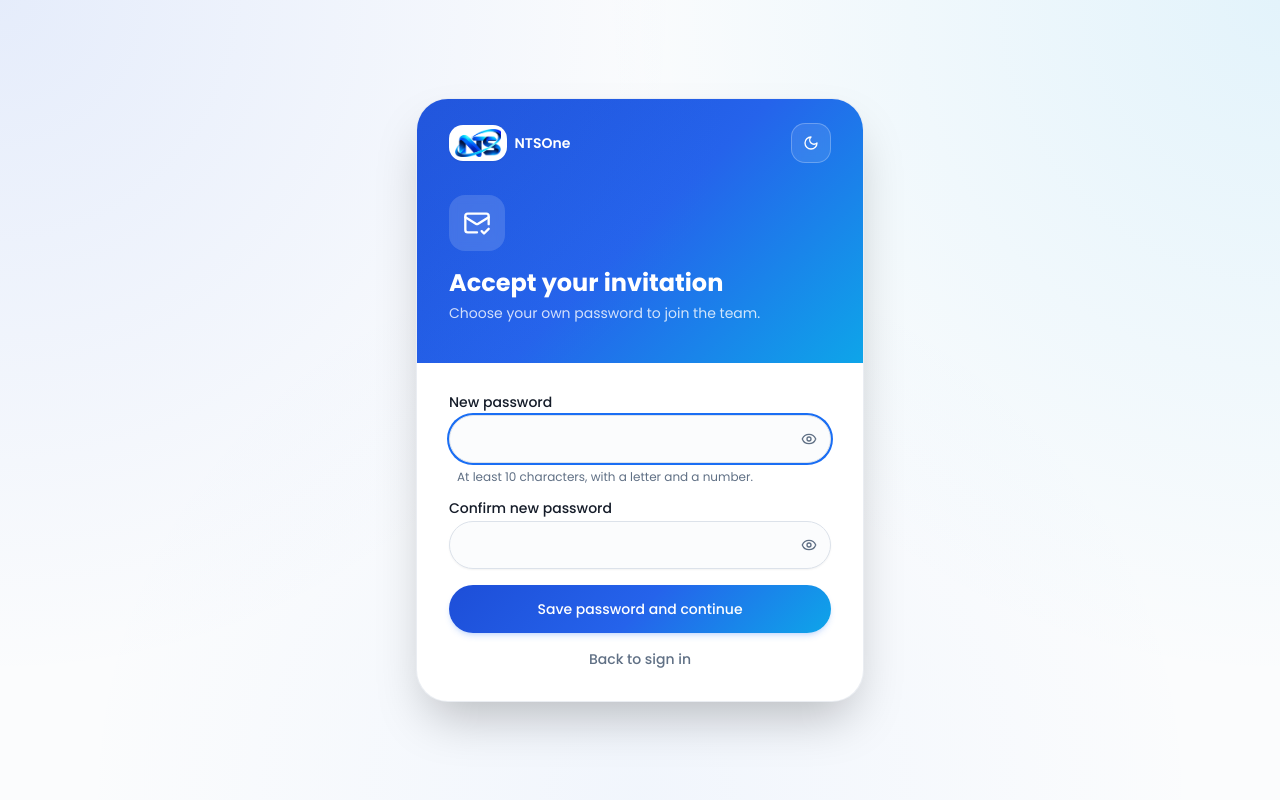
Test case: the accept invitation page › shows the server's reason when the invitation cannot be accepted
The image size is (1280, 800).
Type "MyOwnSecret2026" into the password field labelled "New password" at (640, 439), box [449,415,831,463]
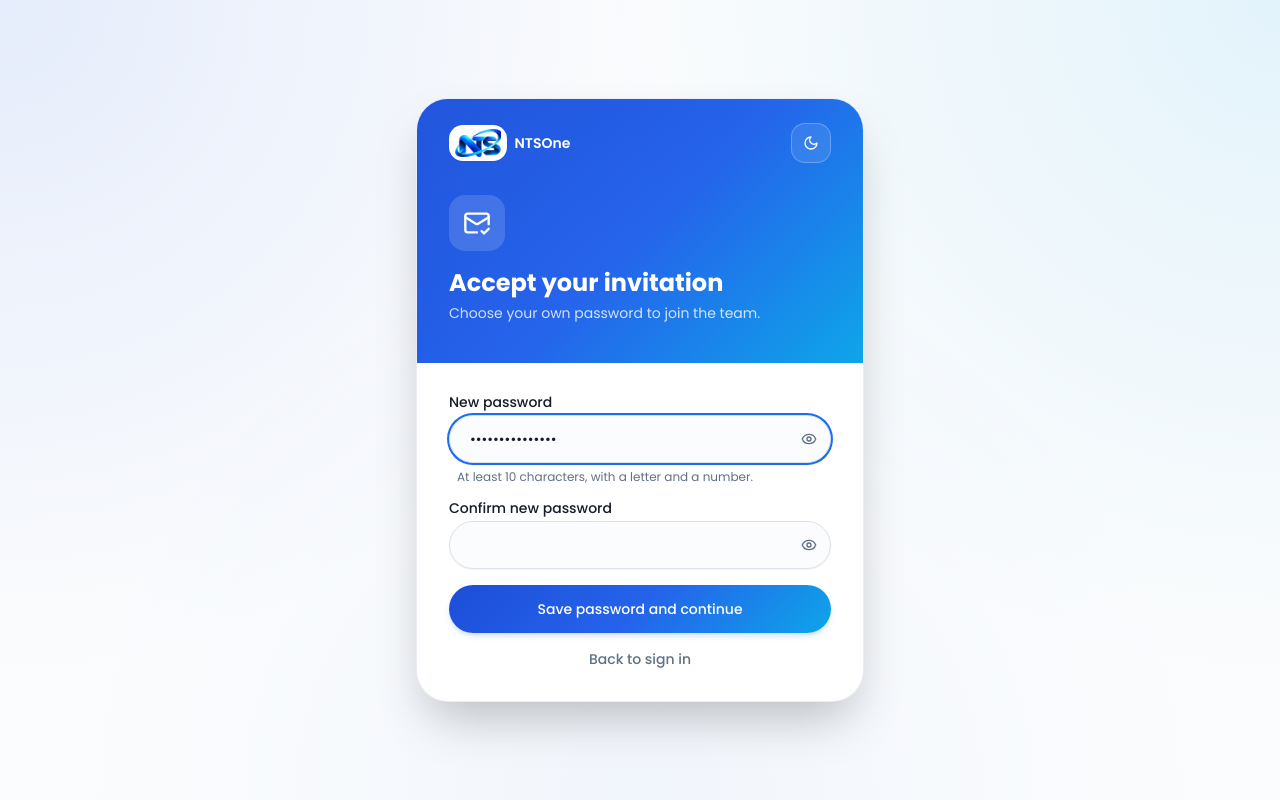
Type "MyOwnSecret2026" into the password field labelled "Confirm new password" at (640, 545), box [449,521,831,569]
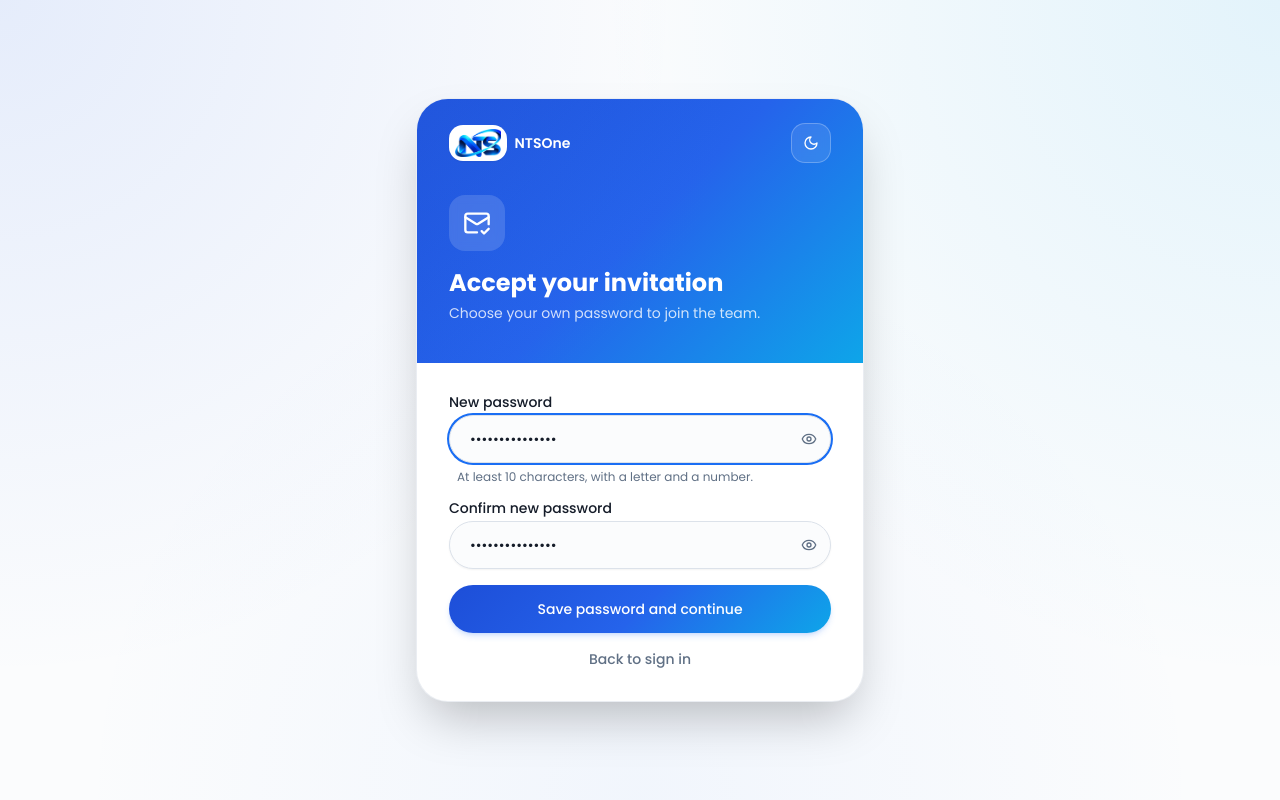
Click the button "Save password and continue" at (640, 609), box [449,585,831,633]
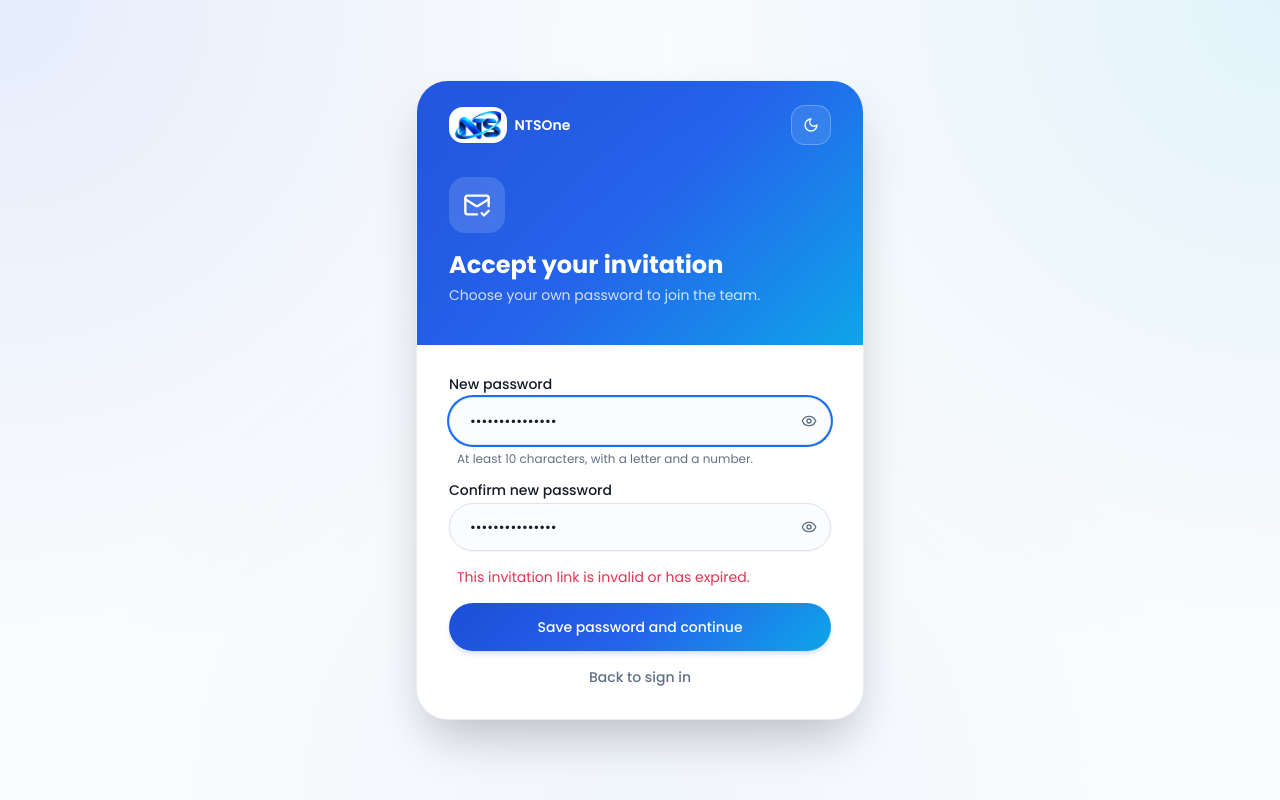
Now the message reads "This invitation link is invalid or has expired.", box [457,567,750,587]
